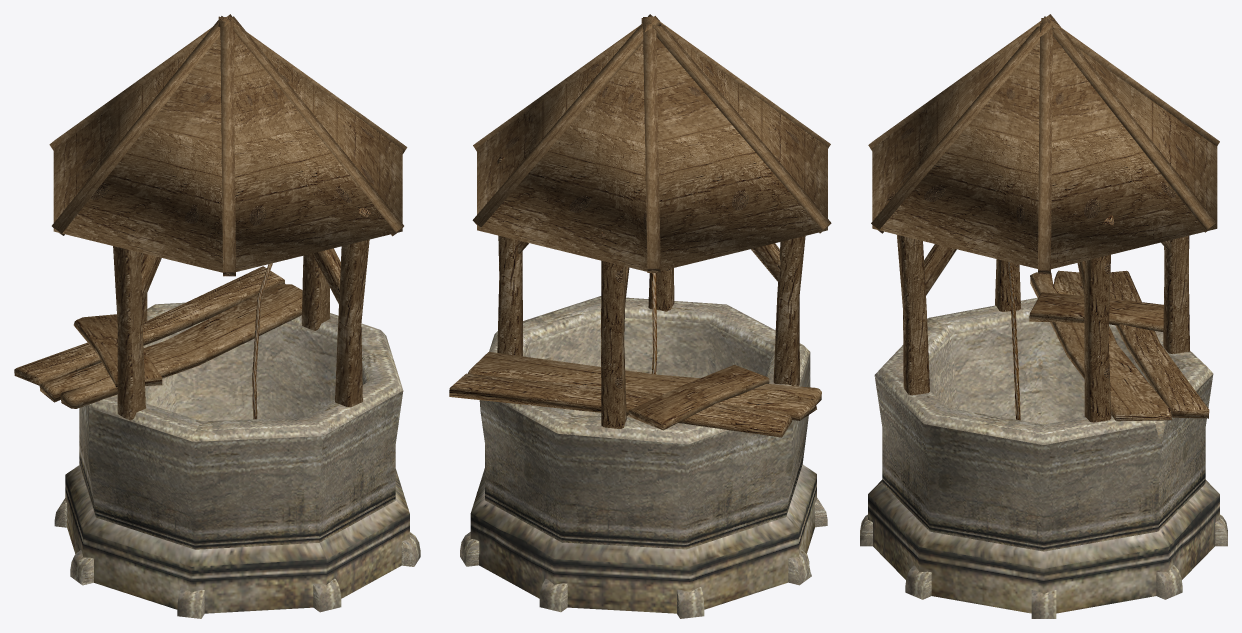
The model's file is well.dae.
3 renders of one model, left to right at view 1: azimuth 30°, elevation 25°; view 2: azimuth 150°, elevation 25°; view 3: azimuth 270°, elevation 25°, orthographic.
Parts seen in each view (by area): view 1: meshU3D; view 2: meshU3D; view 3: meshU3D.
Boxes of the visible parts, box(x1,y1,x2,y2) form: meshU3D: box(14, 14, 420, 618); meshU3D: box(449, 14, 831, 618); meshU3D: box(860, 14, 1227, 618).
Bounding box in the file's own units: 1.53 × 2.2 × 1.41.
